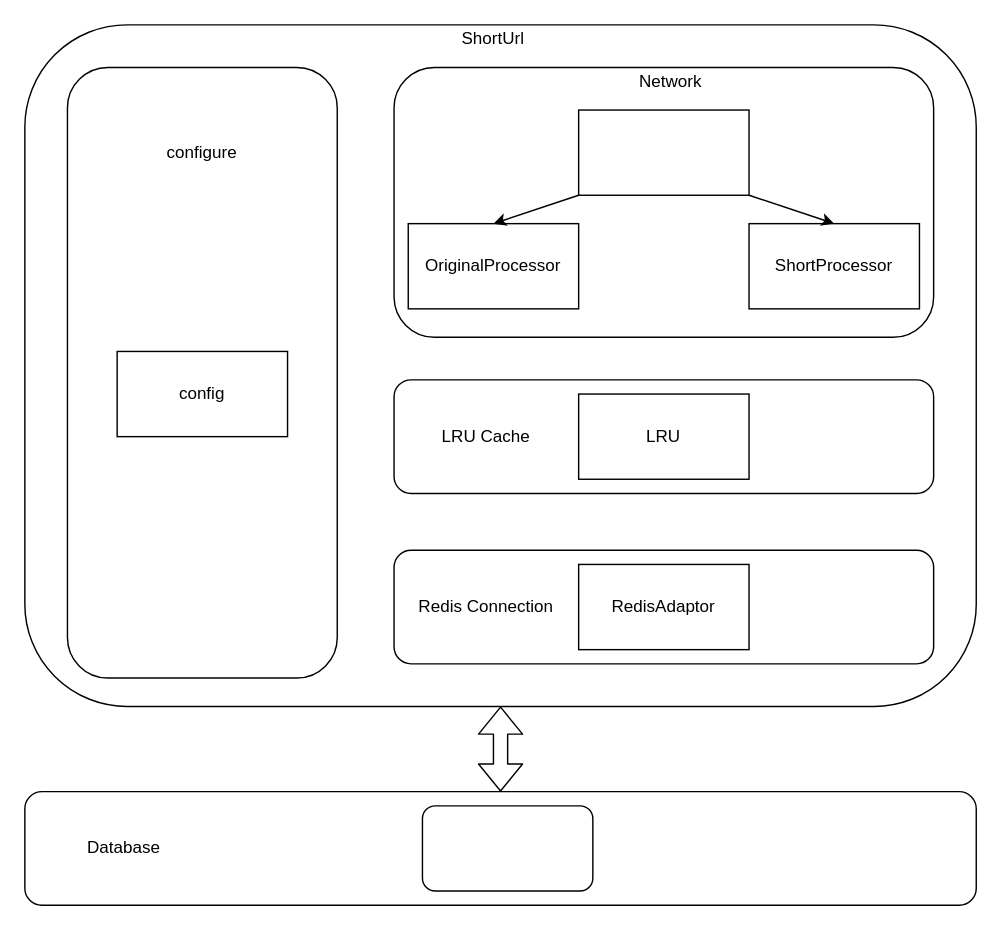
The diagram is 1001 pixels wide and 930 high, and some of its shapes have lost their labels. The shapes that lost their labels are listed below. From the top down, each one's centre as x and y in pixels, then its label:
point 663,152: Router
point 507,847: redis
